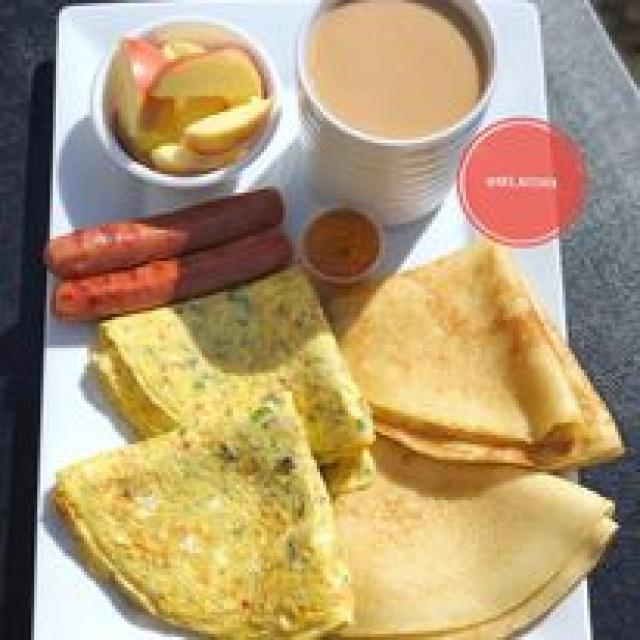Omelette: (50, 295, 345, 628)
Pancakes: (332, 248, 609, 624)
